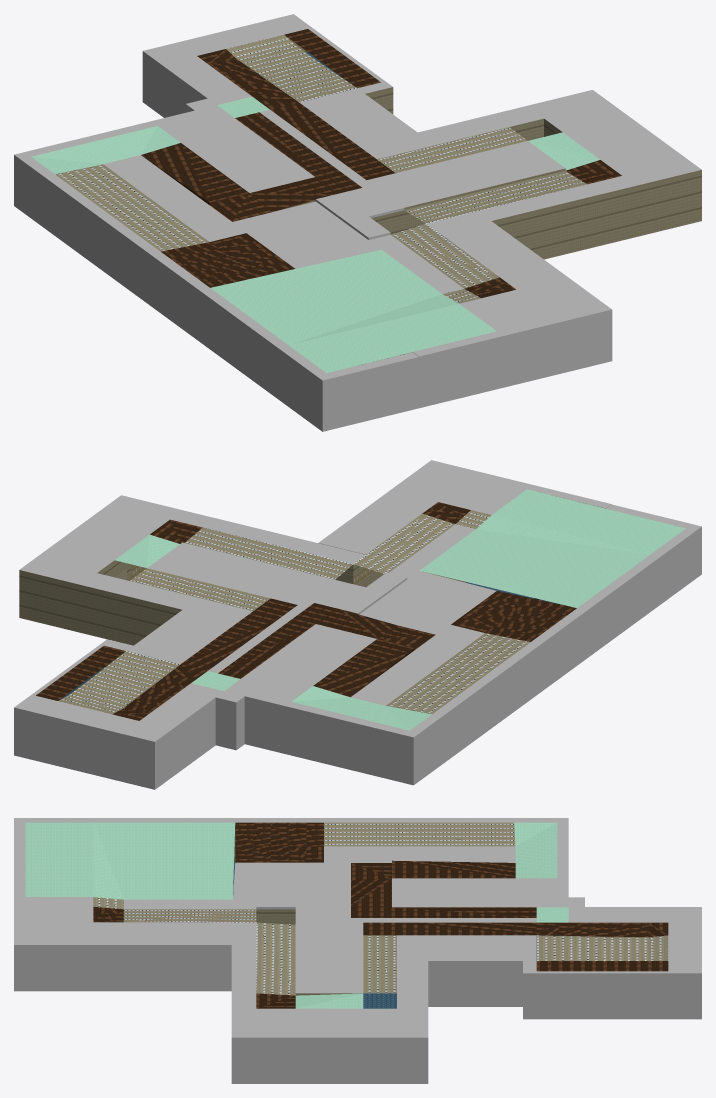
3 renders of one model, top to bottom at view 1: azimuth 30°, elevation 25°; view 2: azimuth 150°, elevation 25°; view 3: azimuth 270°, elevation 25°, orthographic. The views are drawn at different scales.
Visible parts, largest first — view 1: Circuit_between_walls_SKP__Default_Material, Circuit_between_walls_SKP__transparent_glass, Circuit_between_walls_SKP__techo_2, Circuit_between_walls_SKP__techo, Circuit_between_walls_SKP__pared; view 2: Circuit_between_walls_SKP__Default_Material, Circuit_between_walls_SKP__transparent_glass, Circuit_between_walls_SKP__techo_2, Circuit_between_walls_SKP__techo, Circuit_between_walls_SKP__pared; view 3: Circuit_between_walls_SKP__Default_Material, Circuit_between_walls_SKP__transparent_glass, Circuit_between_walls_SKP__techo_2, Circuit_between_walls_SKP__techo, Circuit_between_walls_SKP__pared, Circuit_between_walls_SKP__floor.
Boxes of the visible parts, x1=… form: Circuit_between_walls_SKP__Default_Material: x1=14, y1=14, x2=701, y2=431; Circuit_between_walls_SKP__transparent_glass: x1=31, y1=96, x2=599, y2=372; Circuit_between_walls_SKP__techo_2: x1=141, y1=29, x2=621, y2=298; Circuit_between_walls_SKP__techo: x1=55, y1=35, x2=586, y2=303; Circuit_between_walls_SKP__pared: x1=277, y1=35, x2=701, y2=259; Circuit_between_walls_SKP__Default_Material: x1=14, y1=460, x2=701, y2=789; Circuit_between_walls_SKP__transparent_glass: x1=115, y1=489, x2=685, y2=730; Circuit_between_walls_SKP__techo_2: x1=36, y1=502, x2=576, y2=720; Circuit_between_walls_SKP__techo: x1=58, y1=510, x2=530, y2=714; Circuit_between_walls_SKP__pared: x1=19, y1=498, x2=605, y2=666; Circuit_between_walls_SKP__Default_Material: x1=14, y1=818, x2=701, y2=1083; Circuit_between_walls_SKP__transparent_glass: x1=25, y1=822, x2=568, y2=1008; Circuit_between_walls_SKP__techo_2: x1=93, y1=822, x2=668, y2=1008; Circuit_between_walls_SKP__techo: x1=93, y1=822, x2=668, y2=995; Circuit_between_walls_SKP__pared: x1=234, y1=825, x2=638, y2=995; Circuit_between_walls_SKP__floor: x1=233, y1=861, x2=396, y2=1008.
Size of the model in its own units: 46588 by 5227 by 61695.
Materials: 18 (17 with a texture image).
